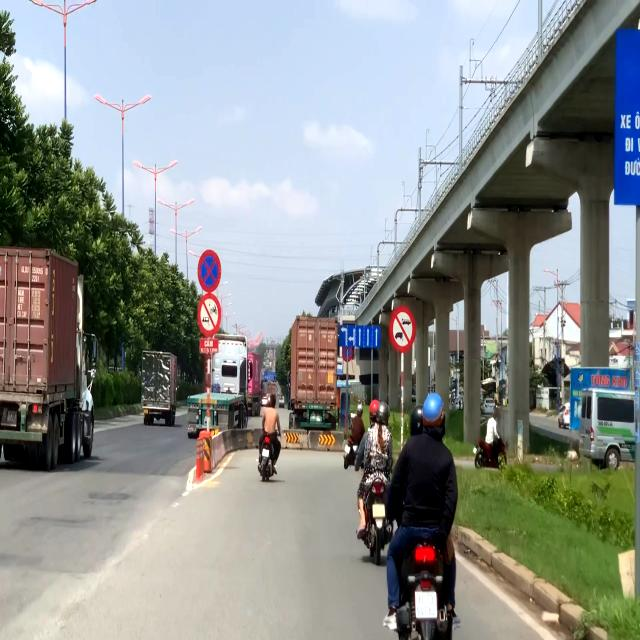P.130: (196, 248, 222, 294)
